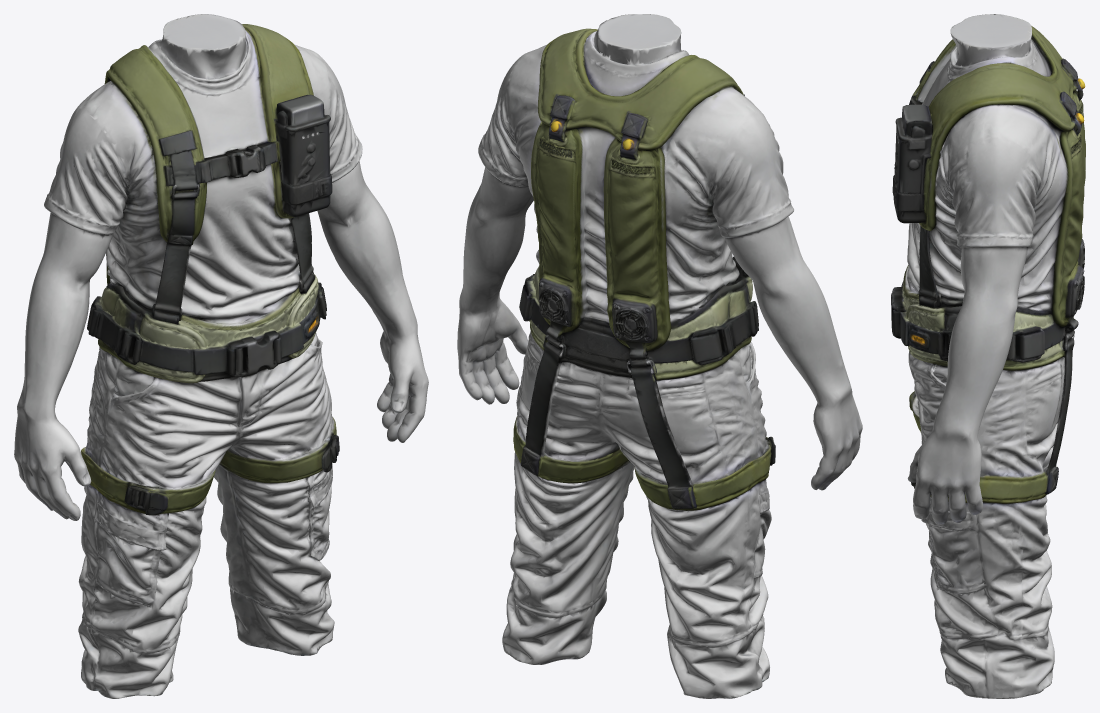
The model's file is GREEN_v3-web.glb.
3 renders of one model, left to right at view 1: azimuth 30°, elevation 25°; view 2: azimuth 150°, elevation 25°; view 3: azimuth 270°, elevation 25°, orthographic. The views are drawn at different scales.
Parts seen in each view (by area): view 1: tactical harness 3d model; view 2: tactical harness 3d model; view 3: tactical harness 3d model.
Boxes of the visible parts, x1,y1,x2,y2 form: tactical harness 3d model: [14, 14, 428, 698]; tactical harness 3d model: [457, 14, 862, 698]; tactical harness 3d model: [891, 14, 1085, 698].
Bounding box in the file's own units: 0.6417 × 0.981 × 0.2843.
1 material, 1 textured.
